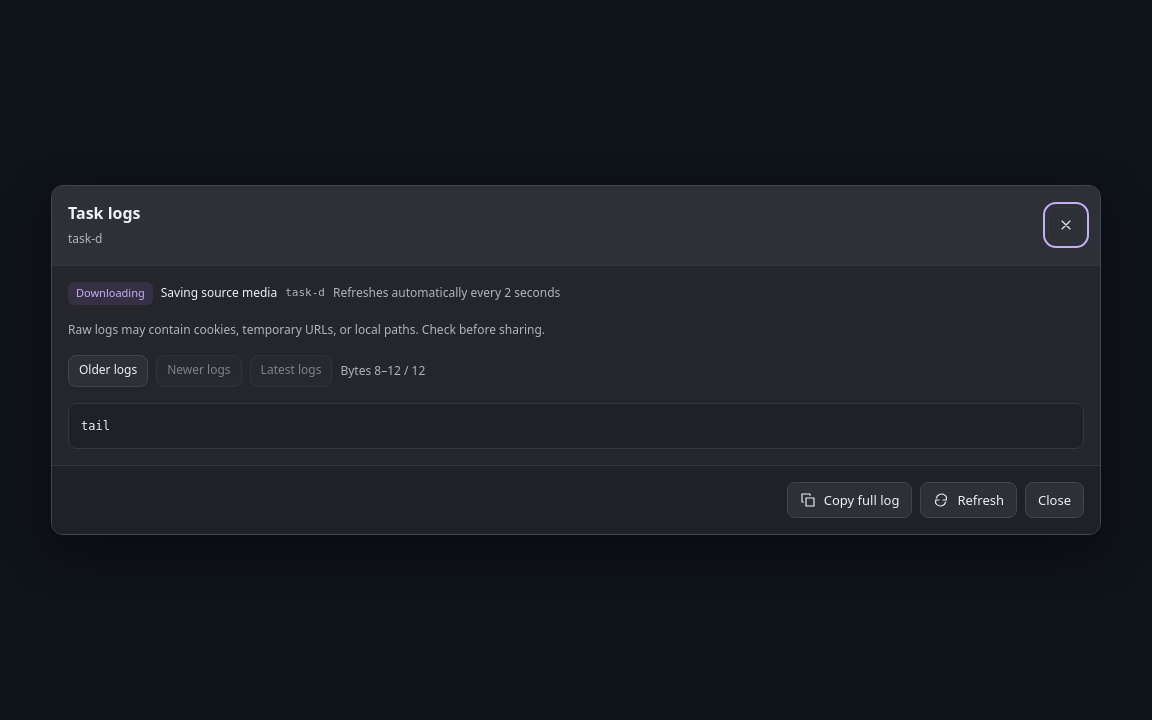
Test: raw task logs › leaves older pages in place while the available byte count refreshes
Click the button "Older logs" at (108, 371), box [68,355,148,387]
Wait 2000 ms
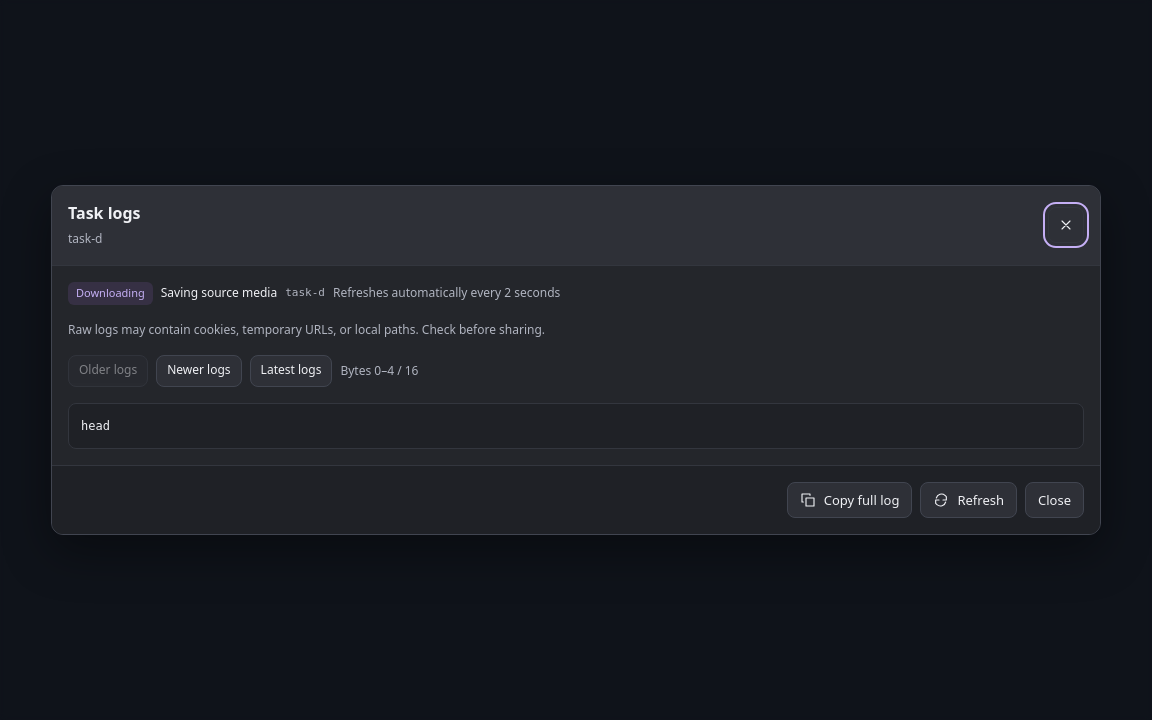
Check: the text named "Task log entries" reads "head", box [81,419,110,433]
Check: the text "Bytes 0–4 / 16" is shown, box [340,362,418,380]
Check: the button "Latest logs" is enabled, box [250,355,332,387]
